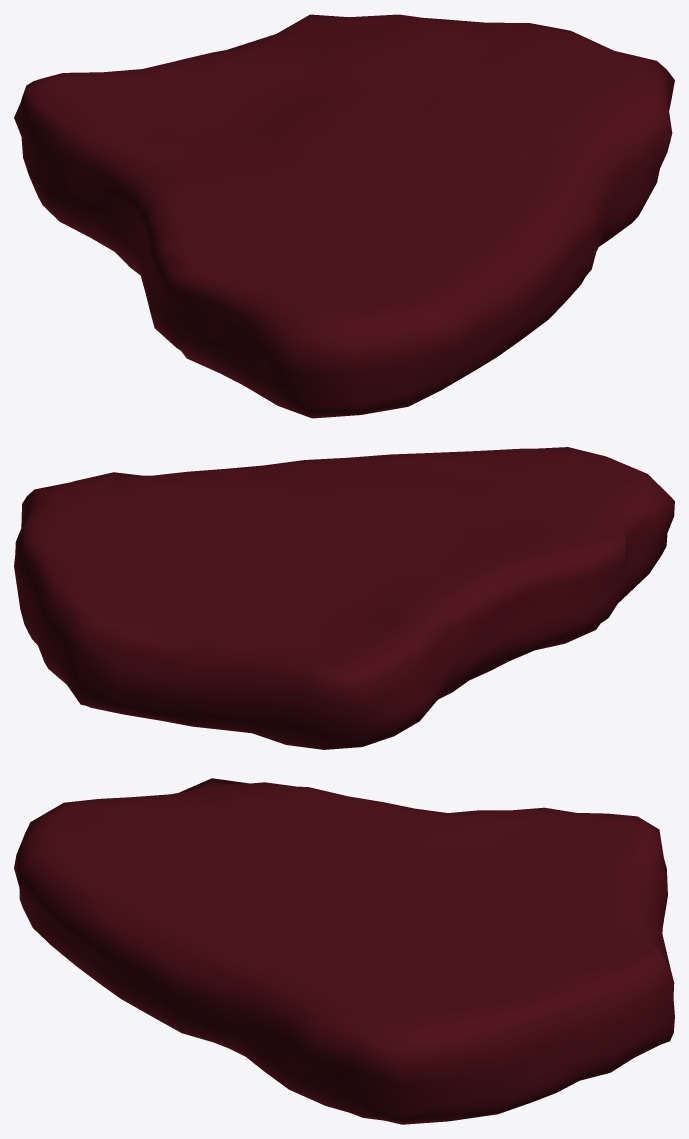
Rendered from Meat.FBX.
3 renders of one model, top to bottom at view 1: azimuth 30°, elevation 25°; view 2: azimuth 150°, elevation 25°; view 3: azimuth 270°, elevation 25°, orthographic. The views are drawn at different scales.
Parts seen in each view (by area): view 1: Meat; view 2: Meat; view 3: Meat.
Part boxes in pixels (<box>): Meat: <box>14,14,674,418</box>; Meat: <box>14,447,674,749</box>; Meat: <box>14,778,674,1124</box>.
Bounding box in the file's own units: 115 × 23.09 × 119.
